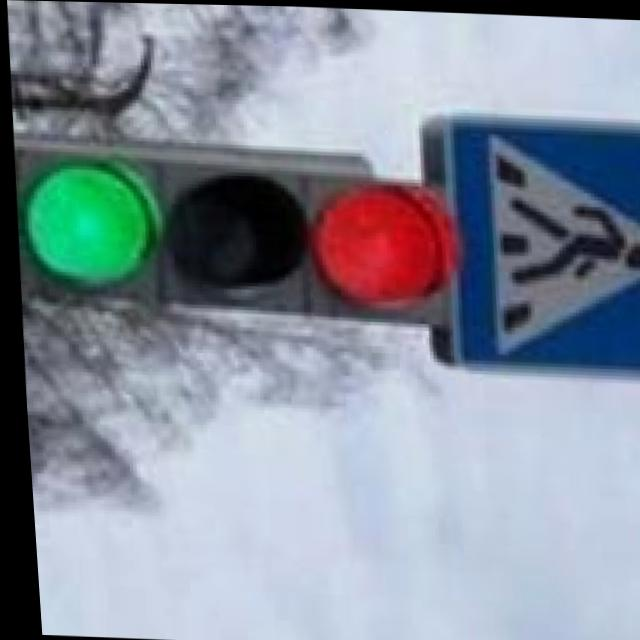green_light: (8, 104, 159, 346)
red_light: (283, 167, 460, 372)
